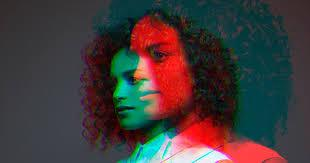Persons: (78, 29, 208, 138)
